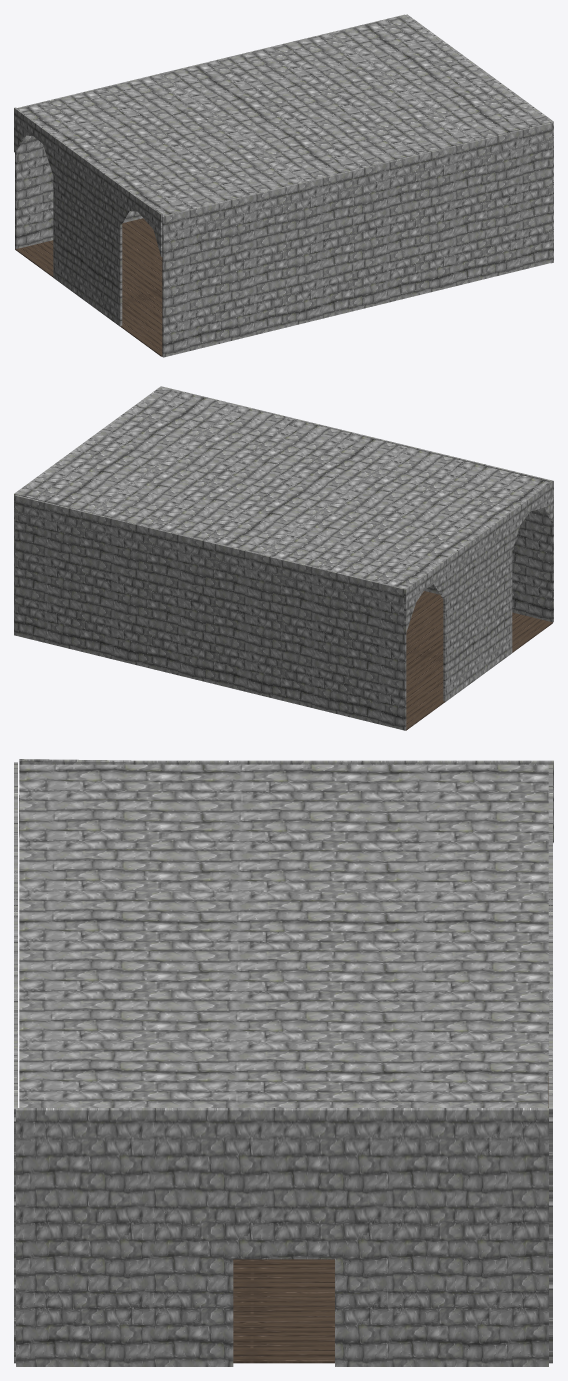
The model's file is room.fbx.
3 renders of one model, top to bottom at view 1: azimuth 30°, elevation 25°; view 2: azimuth 150°, elevation 25°; view 3: azimuth 270°, elevation 25°, orthographic. The views are drawn at different scales.
Parts seen in each view (by area): view 1: pCube958, pCube959, pCube952, pCube956, pCube954, polySurface557; view 2: pCube954, pCube959, pCube952, pCube956, pCube958, polySurface557; view 3: pCube959, polySurface557, pCube956, pCube952, pCube954, pCube958.
Boxes of the visible parts, box(x1,y1,x2,y2) form: pCube958: box(162, 122, 552, 357); pCube959: box(19, 15, 550, 217); pCube952: box(14, 107, 162, 326); pCube956: box(15, 218, 162, 356); pCube954: box(15, 14, 404, 248); polySurface557: box(405, 14, 553, 263); pCube954: box(14, 495, 406, 730); pCube959: box(17, 387, 548, 588); pCube952: box(404, 480, 553, 702); pCube956: box(405, 591, 552, 730); pCube958: box(163, 387, 553, 622); polySurface557: box(14, 386, 163, 635); pCube959: box(19, 764, 549, 1107); polySurface557: box(16, 1108, 548, 1366); pCube956: box(233, 1078, 548, 1363); pCube952: box(19, 759, 553, 842); pCube954: box(548, 763, 552, 1363); pCube958: box(14, 762, 17, 1363).
Size of the model in its own units: 2803 by 978 by 1840.
Materials: 2 (2 with a texture image).
